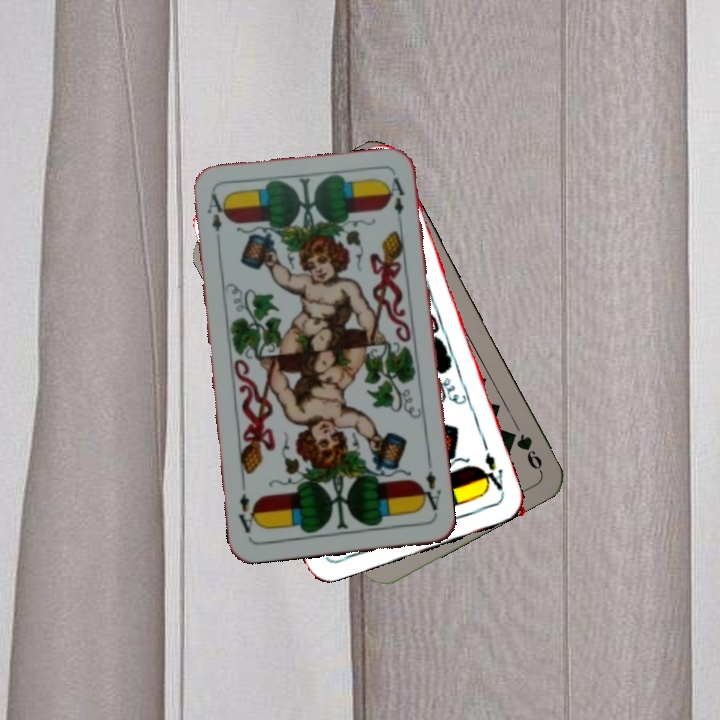EA: (477, 448, 507, 497), (416, 466, 444, 513), (203, 189, 230, 235)
G9: (512, 430, 545, 474)
